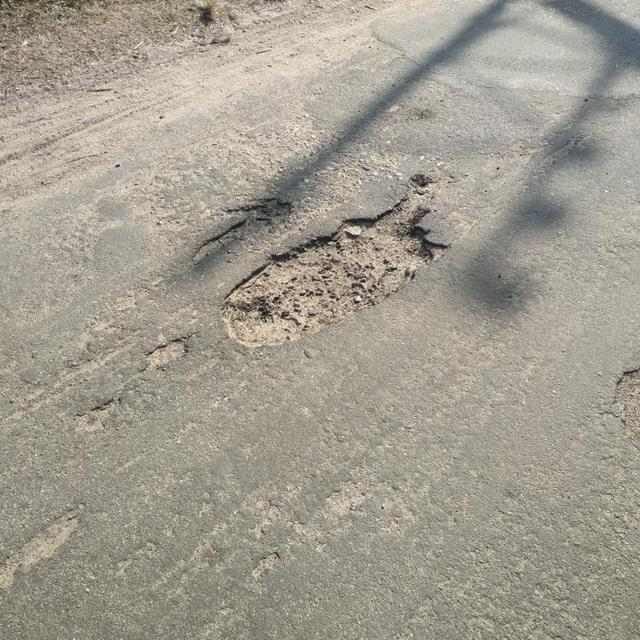Pothole: (222, 169, 452, 352), (0, 499, 90, 588), (188, 194, 295, 267), (138, 333, 196, 372), (611, 364, 639, 444)
